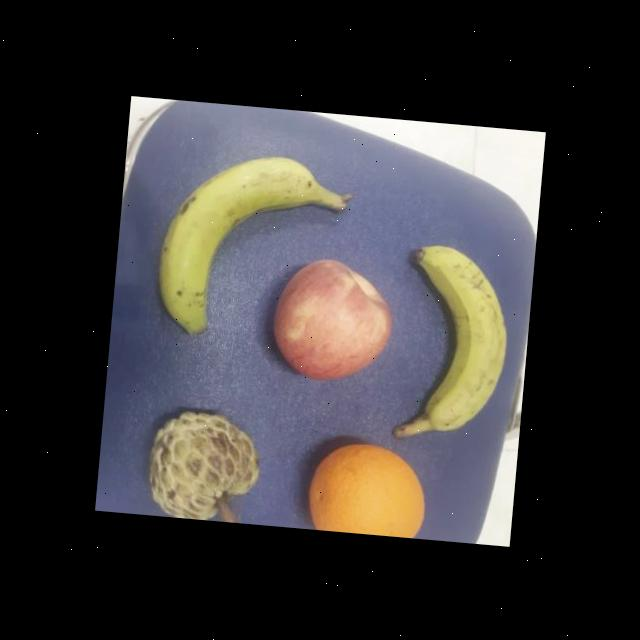Sakya fruit: (142, 403, 264, 522)
apple: (266, 248, 399, 388)
banana: (152, 142, 352, 347), (390, 240, 514, 440)
orange: (296, 431, 436, 538)
